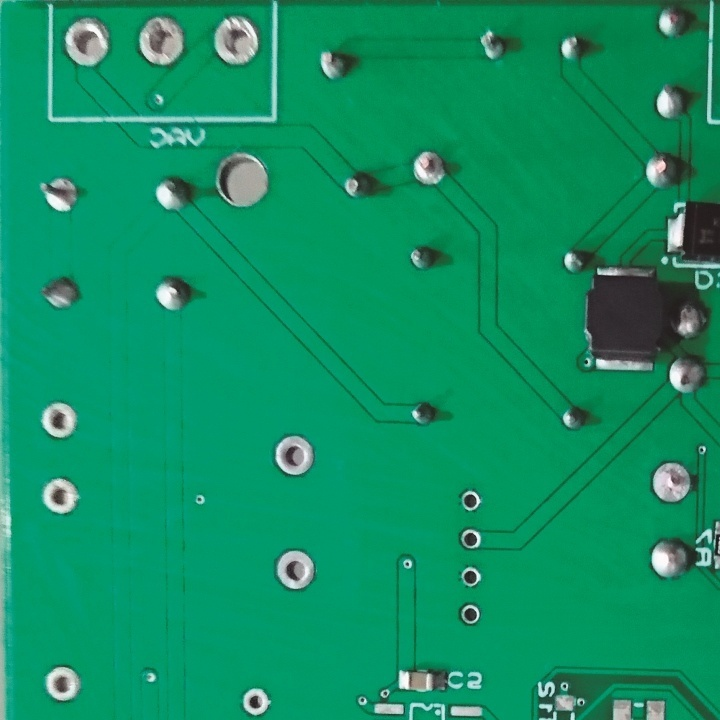F: (136, 13, 189, 72), (61, 15, 117, 69), (208, 15, 262, 69), (273, 430, 316, 479), (650, 459, 693, 507), (275, 549, 320, 592), (41, 664, 84, 709), (39, 476, 81, 520), (36, 175, 81, 214), (39, 401, 81, 438), (411, 150, 448, 189), (239, 680, 272, 718), (453, 525, 485, 554), (457, 599, 486, 626), (456, 488, 484, 515), (459, 563, 484, 590)
